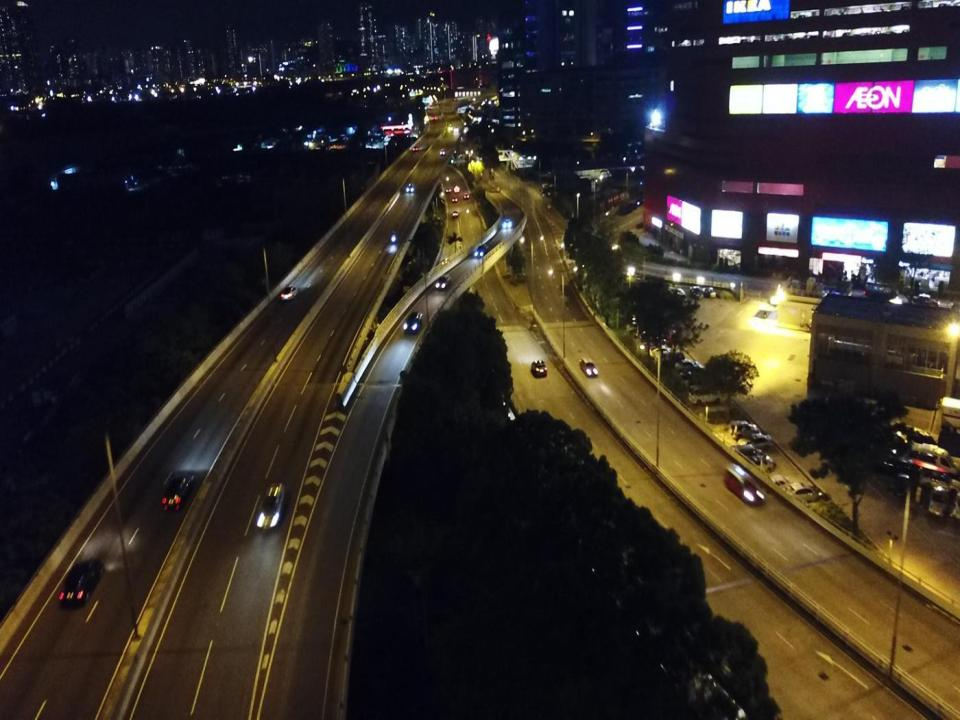bus: (864, 286, 900, 305)
car: (59, 557, 105, 606), (724, 464, 765, 506), (257, 483, 286, 534), (162, 474, 195, 506), (917, 472, 959, 493), (781, 483, 824, 502), (684, 372, 724, 388), (929, 484, 948, 517), (728, 420, 759, 439), (760, 476, 794, 492), (742, 457, 776, 472), (730, 446, 762, 461), (740, 436, 772, 451), (912, 293, 940, 308), (404, 312, 422, 334), (579, 357, 598, 377), (676, 360, 704, 370), (649, 346, 675, 356), (531, 361, 547, 376), (660, 354, 684, 364), (281, 287, 298, 301), (435, 274, 450, 288), (690, 286, 703, 300), (702, 286, 716, 297), (476, 245, 488, 257), (503, 220, 512, 228), (441, 258, 450, 266), (406, 184, 414, 192), (412, 145, 419, 151), (454, 186, 460, 193), (452, 211, 458, 217), (440, 149, 446, 154), (452, 197, 458, 202), (454, 127, 459, 132), (446, 188, 451, 193), (448, 124, 452, 130), (432, 116, 437, 120), (464, 194, 469, 198), (472, 98, 476, 100)
van: (906, 442, 957, 476), (689, 386, 728, 403)
